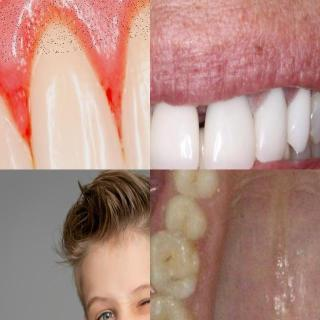Gum Swelling: (0, 0, 150, 122)
cavities: (158, 250, 182, 292)
